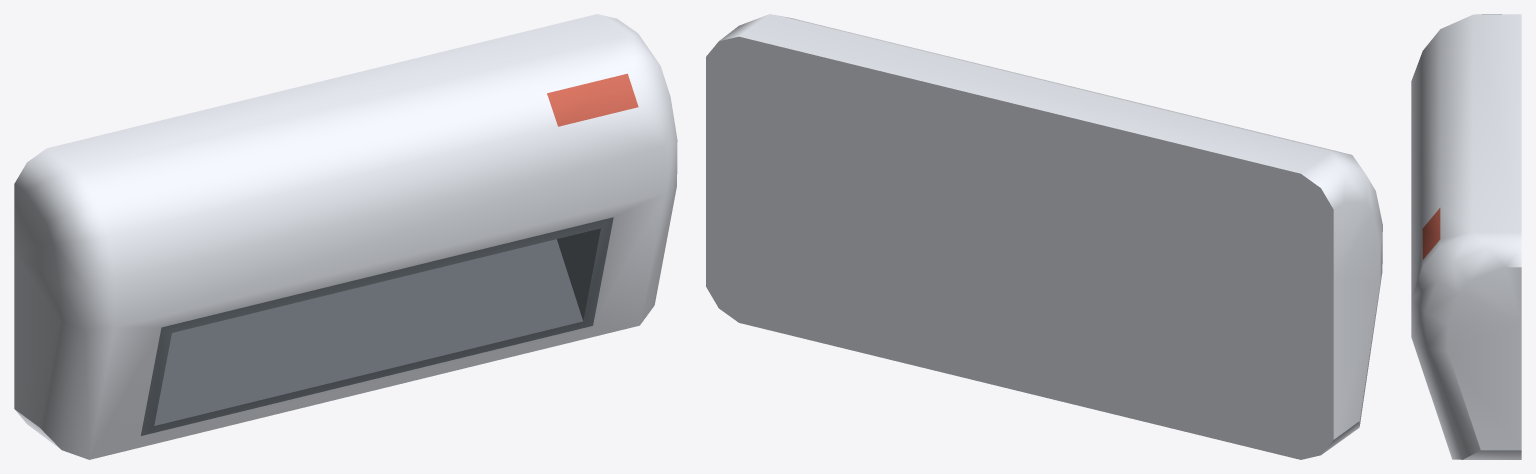
The model's file is SM_Prop_Heater_02.obj.
3 renders of one model, left to right at view 1: azimuth 30°, elevation 25°; view 2: azimuth 150°, elevation 25°; view 3: azimuth 270°, elevation 25°, orthographic. The views are drawn at different scales.
Visible parts, largest first — view 1: SM_Prop_Heater_02_Mat_SwatchOverlay_PolygonTown_01_Inst; view 2: SM_Prop_Heater_02_Mat_SwatchOverlay_PolygonTown_01_Inst; view 3: SM_Prop_Heater_02_Mat_SwatchOverlay_PolygonTown_01_Inst.
Part boxes in pixels (bbox=[...]): SM_Prop_Heater_02_Mat_SwatchOverlay_PolygonTown_01_Inst: bbox=[14, 14, 677, 459]; SM_Prop_Heater_02_Mat_SwatchOverlay_PolygonTown_01_Inst: bbox=[706, 14, 1382, 459]; SM_Prop_Heater_02_Mat_SwatchOverlay_PolygonTown_01_Inst: bbox=[1411, 14, 1521, 459].
Bounding box in the file's own units: 1.15 × 0.5 × 0.2196.
Materials: 1 (1 with a texture image).
